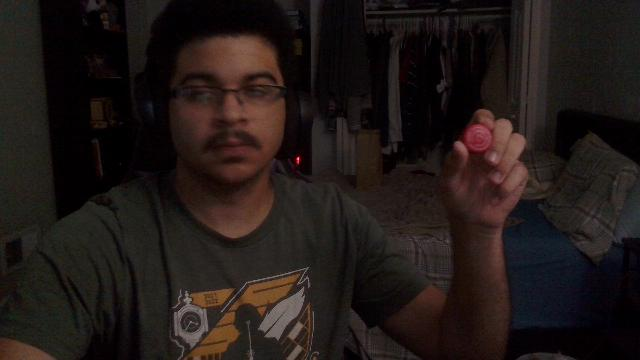cap: (464, 124, 494, 153)
